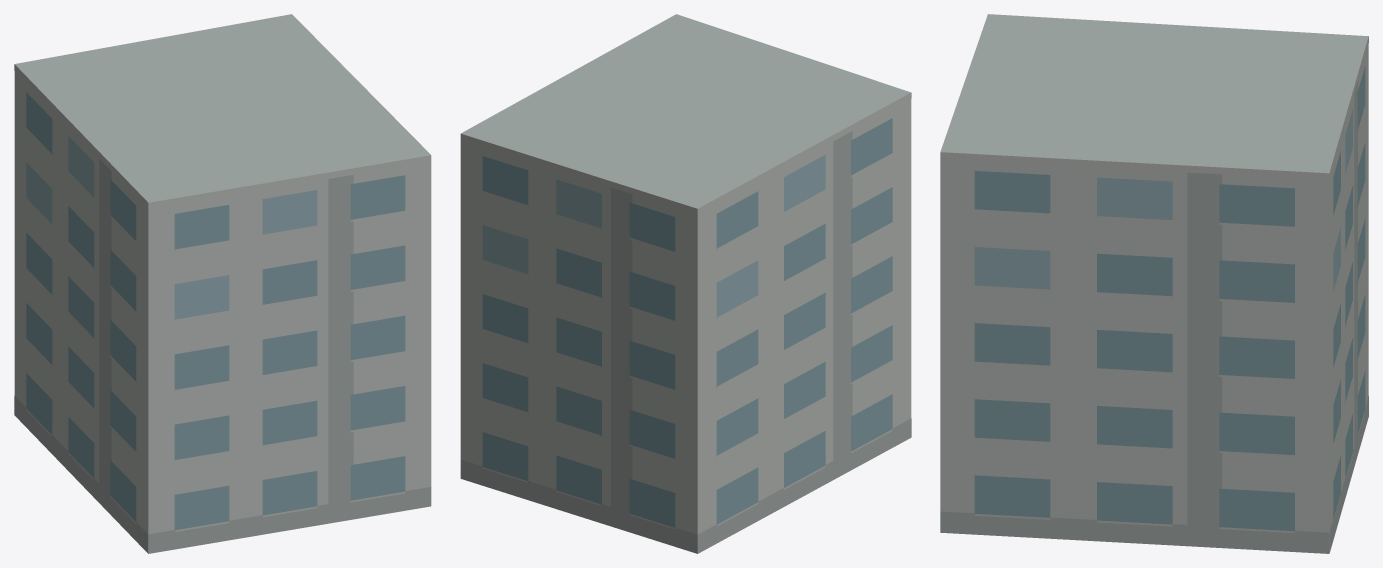
The model's file is survey-upis-32885782.glb.
3 renders of one model, left to right at view 1: azimuth 30°, elevation 25°; view 2: azimuth 150°, elevation 25°; view 3: azimuth 270°, elevation 25°, orthographic. The views are drawn at different scales.
Parts seen in each view (by area): view 1: survey-upis-32885782.tmp; view 2: survey-upis-32885782.tmp; view 3: survey-upis-32885782.tmp.
Part boxes in pixels (x1,y1,x2,y2): survey-upis-32885782.tmp: [14, 14, 431, 553]; survey-upis-32885782.tmp: [460, 14, 911, 553]; survey-upis-32885782.tmp: [940, 14, 1368, 553].
Bounding box in the file's own units: 11.86 × 13.2 × 13.48.
